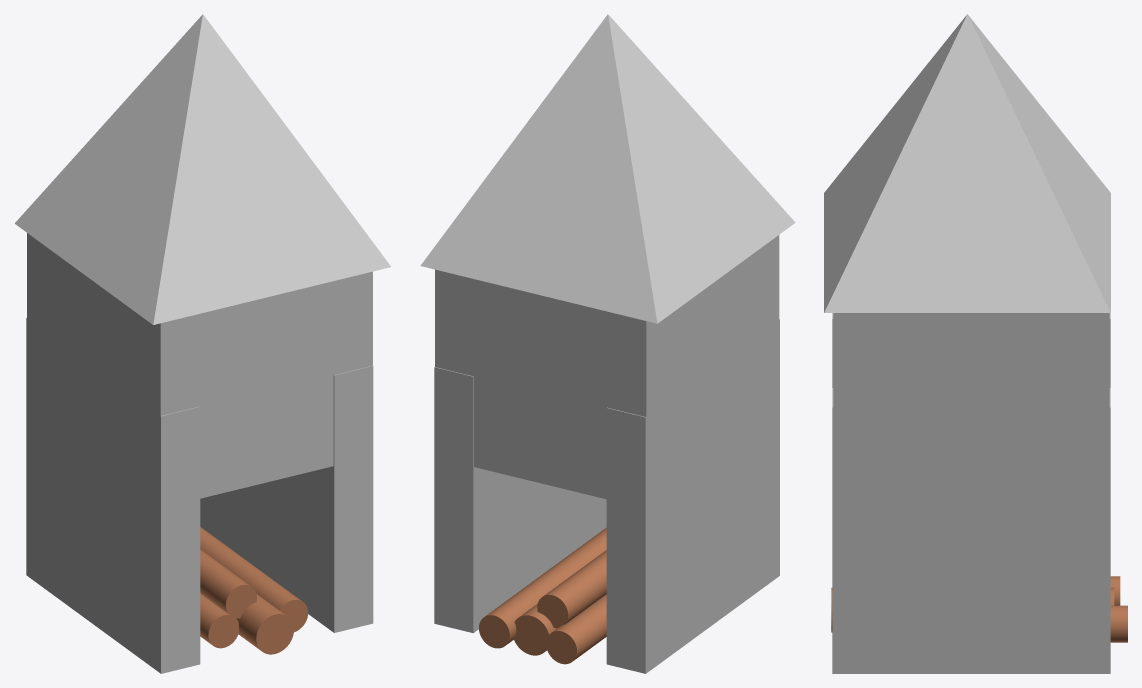
The model's file is Sawmill.fbx.
The picture shows the model from 3 angles, left to right: view 1: azimuth 30°, elevation 25°; view 2: azimuth 150°, elevation 25°; view 3: azimuth 270°, elevation 25°; orthographic projection. The views are drawn at different scales.
Visible parts, largest first — view 1: root (×8); view 2: root (×8); view 3: root (×4).
Part boxes in pixels (box(x1,y1,x2,y2)): root (×8): box(15, 14, 390, 673); root (×8): box(420, 14, 795, 673); root (×4): box(824, 14, 1127, 673).
Size of the model in its own units: 0.1721 by 0.4096 by 0.1839.
